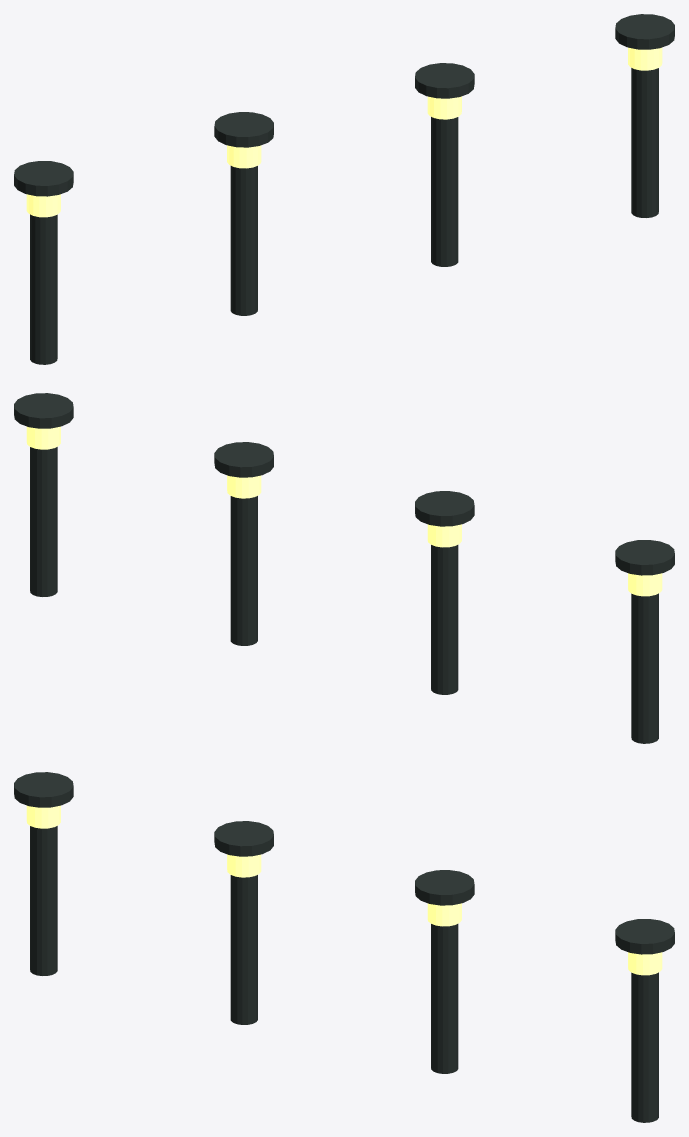
The model's file is lights.glb.
3 views of the same model, one above another, from view 1: azimuth 30°, elevation 25°; view 2: azimuth 150°, elevation 25°; view 3: azimuth 330°, elevation 25° (orthographic).
Parts seen in each view (by area): view 1: lights_Antracit, lights_Teple svetlo; view 2: lights_Antracit, lights_Teple svetlo; view 3: lights_Antracit, lights_Teple svetlo.
Boxes of the visible parts, left/top/right/bottom form: lights_Antracit: left=14, top=14, right=674, bottom=364; lights_Teple svetlo: left=26, top=47, right=662, bottom=217; lights_Antracit: left=14, top=393, right=674, bottom=743; lights_Teple svetlo: left=26, top=426, right=662, bottom=596; lights_Antracit: left=14, top=772, right=674, bottom=1122; lights_Teple svetlo: left=26, top=805, right=662, bottom=975.
Size of the model in its own units: 3.26 by 0.885 by 0.26.
